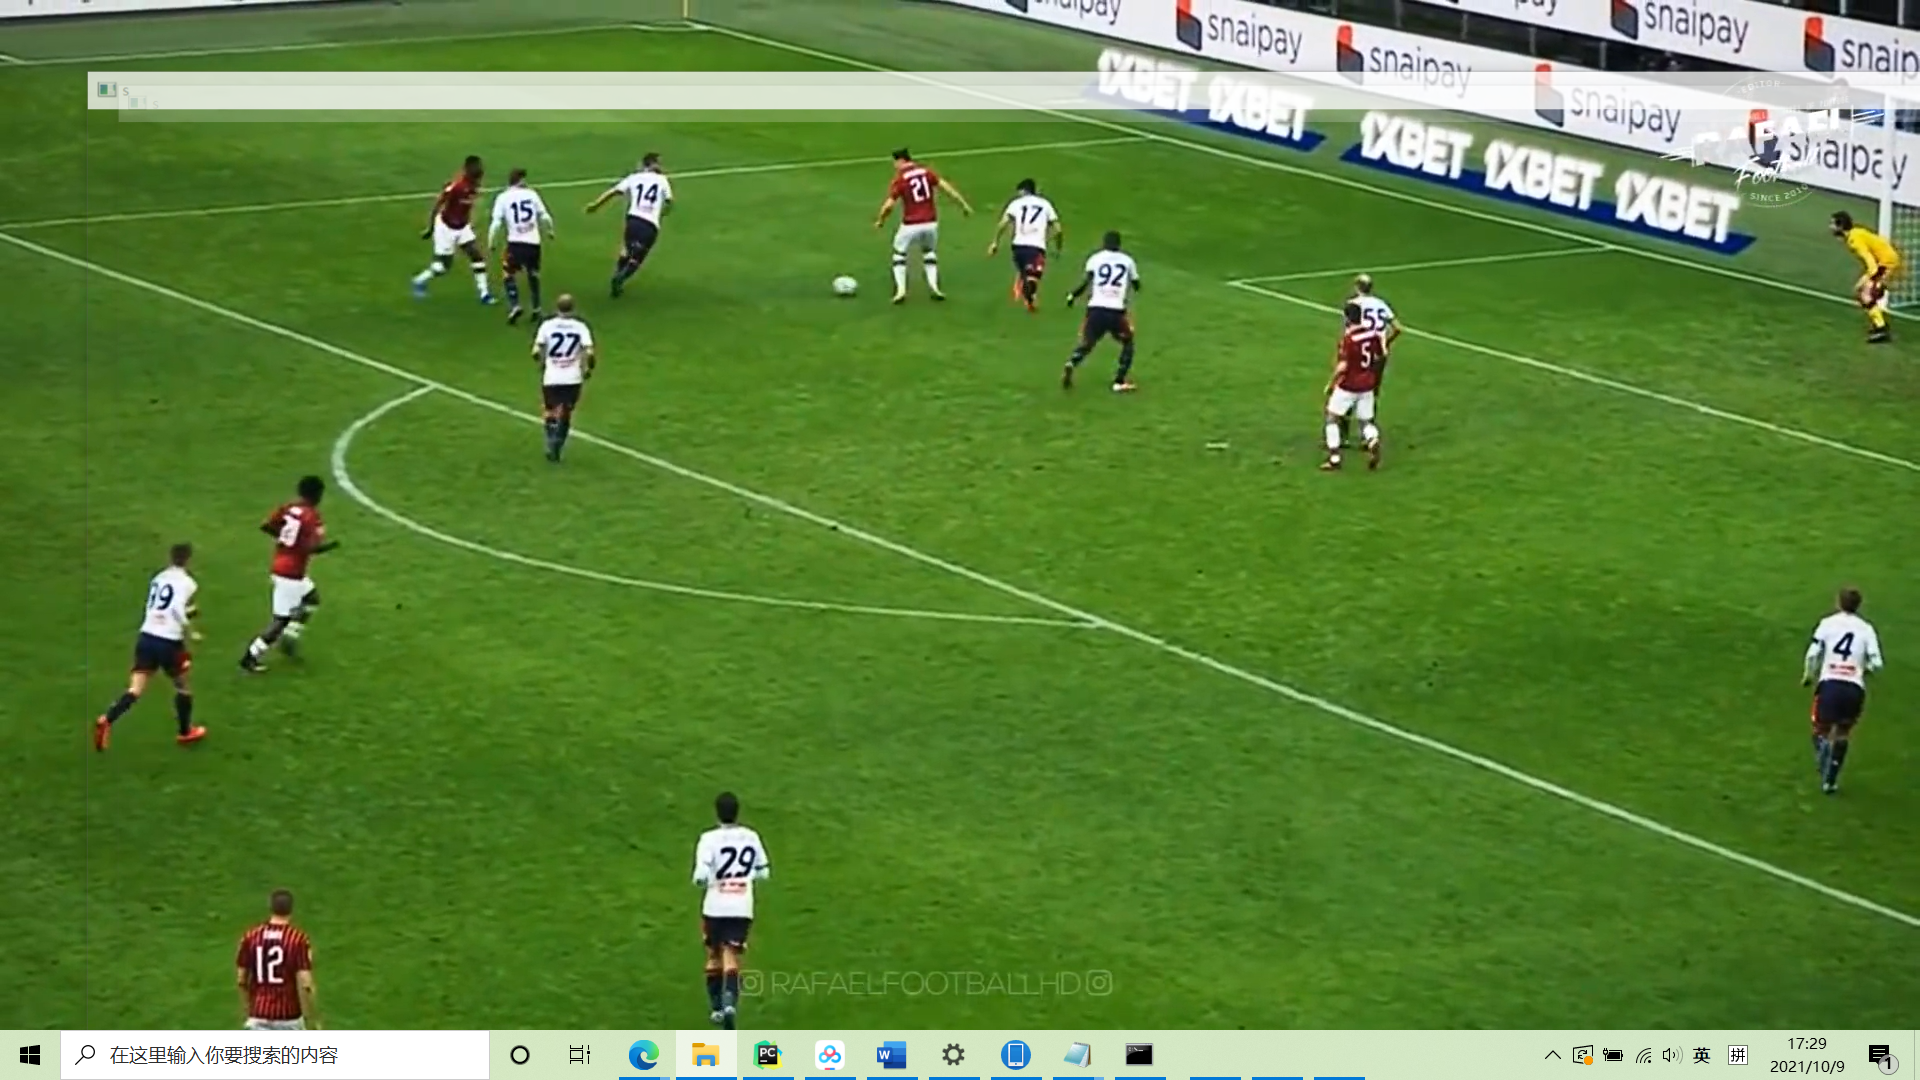ft: (829, 272, 860, 299)
